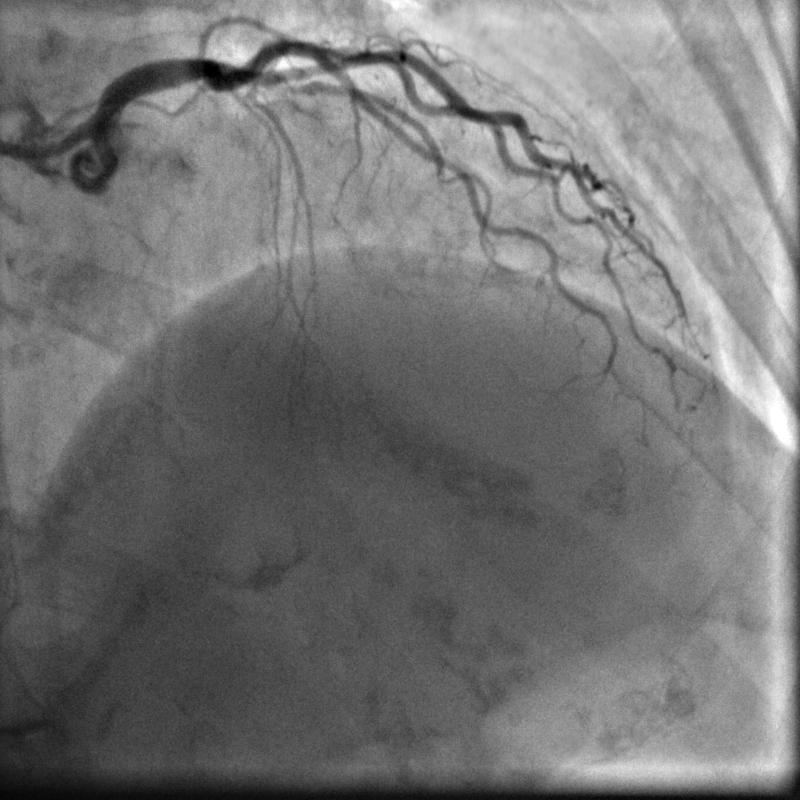Stenosis: (284, 78, 324, 98)
